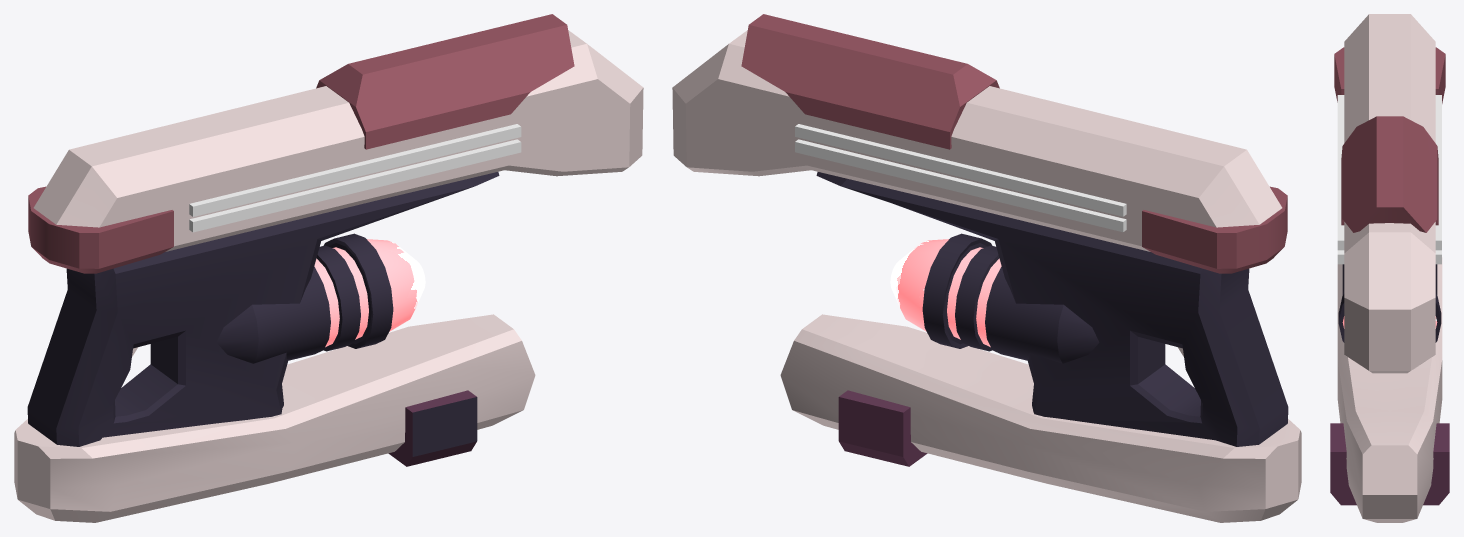
The model's file is HyperThreader.fbx.
3 views of the same model, side by side, from view 1: azimuth 30°, elevation 25°; view 2: azimuth 150°, elevation 25°; view 3: azimuth 270°, elevation 25° (orthographic). The views are drawn at different scales.
Parts seen in each view (by area): view 1: Cube; view 2: Cube; view 3: Cube.
Boxes of the visible parts, x1,y1,x2,y2 form: Cube: (14, 14, 643, 522); Cube: (672, 14, 1301, 522); Cube: (1330, 14, 1449, 522).
Size of the model in its own units: 439 by 262 by 81.3.
